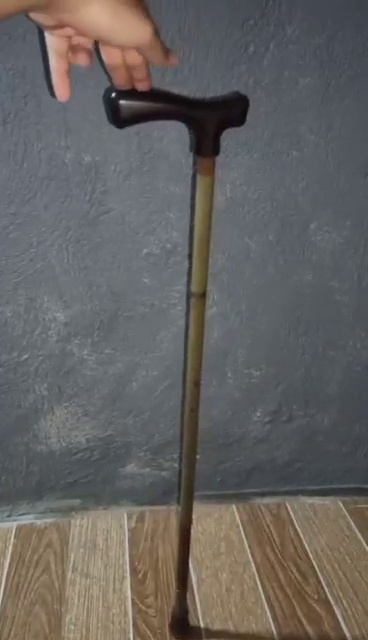cane: (104, 83, 253, 640)
hand: (1, 1, 174, 109)
